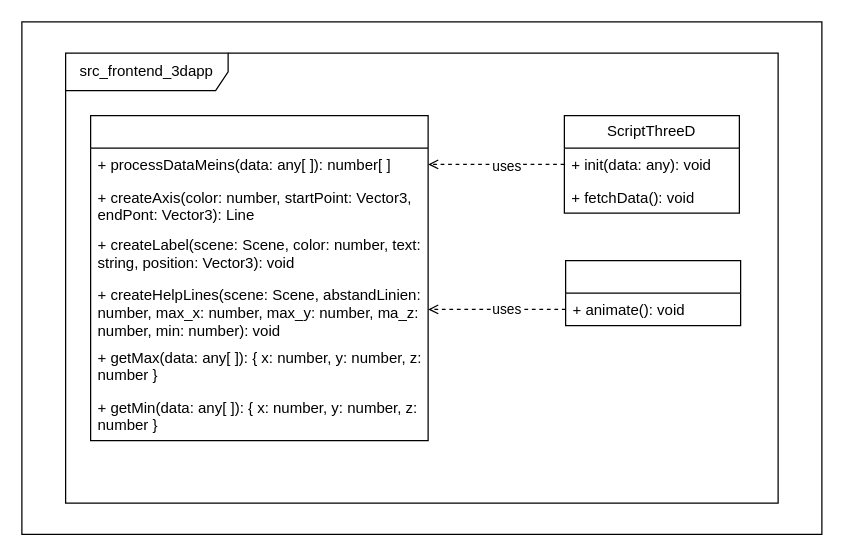
Some shapes in this 844 by 556 pixel diagram are drawn without their labels. The shapes that lost their labels are listed below. From the top down, each one's box as (x1, y1, x2, y2) in pixels, then its label:
(89, 114, 428, 441): HelperClass
(564, 259, 741, 326): ScriptHeartrate
